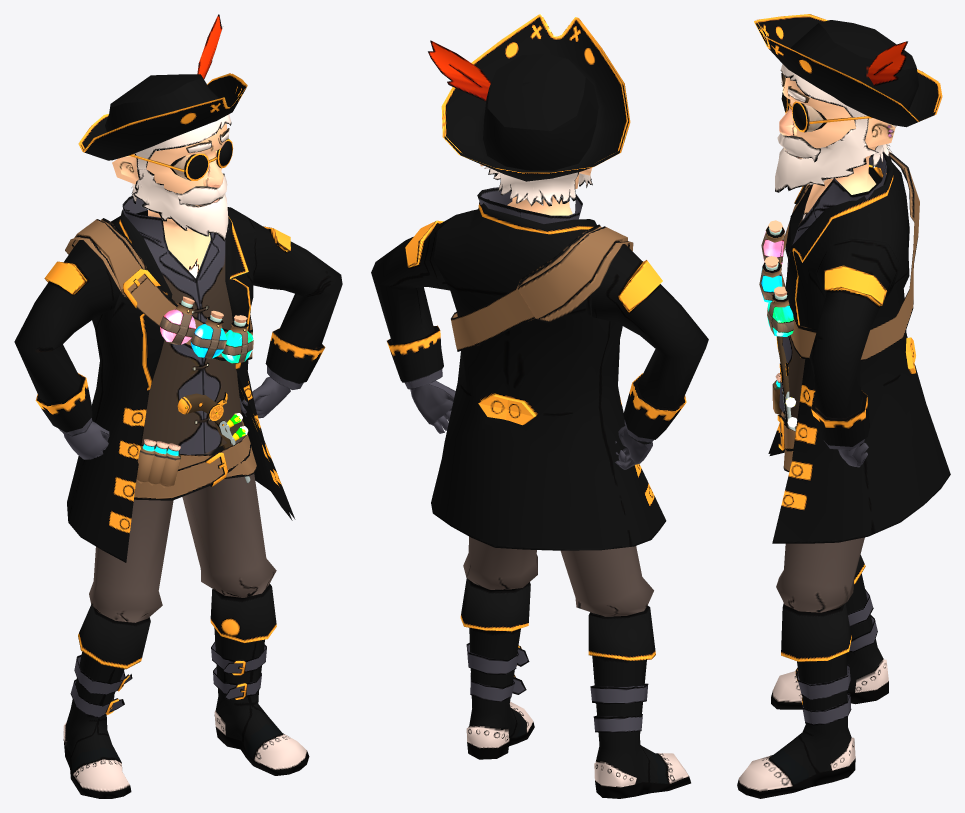
File: captain-cleanbeard.glb
3 views of the same model, side by side, from view 1: azimuth 30°, elevation 25°; view 2: azimuth 150°, elevation 25°; view 3: azimuth 270°, elevation 25° (orthographic). The views are drawn at different scales.
Parts seen in each view (by area): view 1: Pirate_Body.002, Pirate_Body.003, Pirate_Body, Pirate_Body.001; view 2: Pirate_Body.003, Pirate_Body.002, Pirate_Body, Pirate_Body.001; view 3: Pirate_Body.002, Pirate_Body.003, Pirate_Body, Pirate_Body.001.
Boxes of the visible parts, x1=… form: Pirate_Body.002: x1=14, y1=14, x2=342, y2=436; Pirate_Body.003: x1=63, y1=196, x2=295, y2=562; Pirate_Body: x1=63, y1=309, x2=309, y2=798; Pirate_Body.001: x1=70, y1=269, x2=266, y2=718; Pirate_Body.003: x1=410, y1=187, x2=666, y2=550; Pirate_Body.002: x1=371, y1=14, x2=708, y2=444; Pirate_Body: x1=460, y1=536, x2=690, y2=798; Pirate_Body.001: x1=451, y1=288, x2=648, y2=732; Pirate_Body.002: x1=754, y1=14, x2=942, y2=450; Pirate_Body.003: x1=768, y1=146, x2=950, y2=543; Pirate_Body: x1=737, y1=230, x2=888, y2=798; Pirate_Body.001: x1=762, y1=185, x2=918, y2=725.
Size of the model in its own units: 1.35 by 2.84 by 0.7329.
5 materials, 5 textured.
